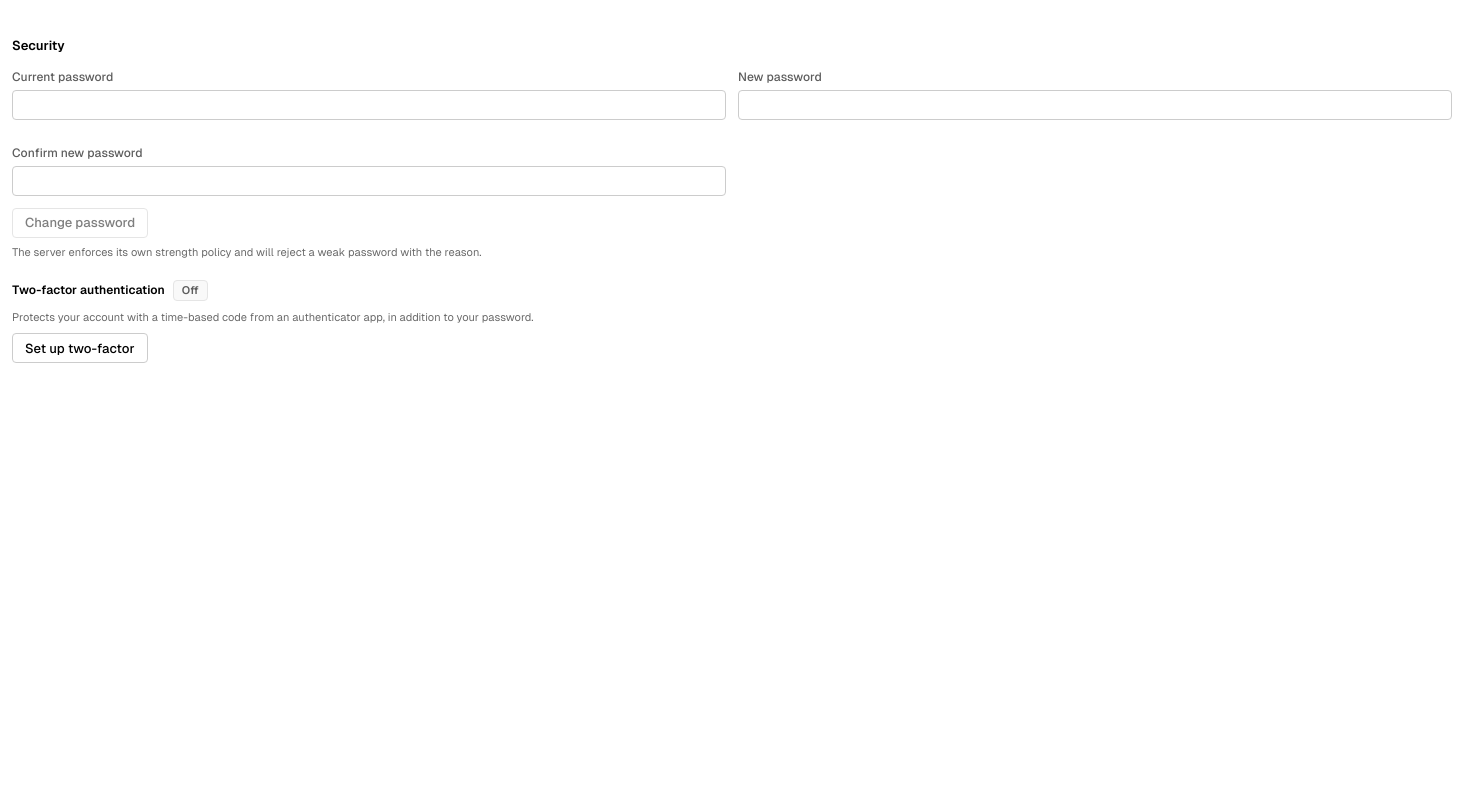
Scenario: AccountSecurity › states that backup codes cannot be retrieved again, and does not claim MFA is on before verification
The image size is (1464, 810).
Click the button "Set up two-factor". click: (80, 348)
box: x1=12 y1=333 x2=148 y2=363
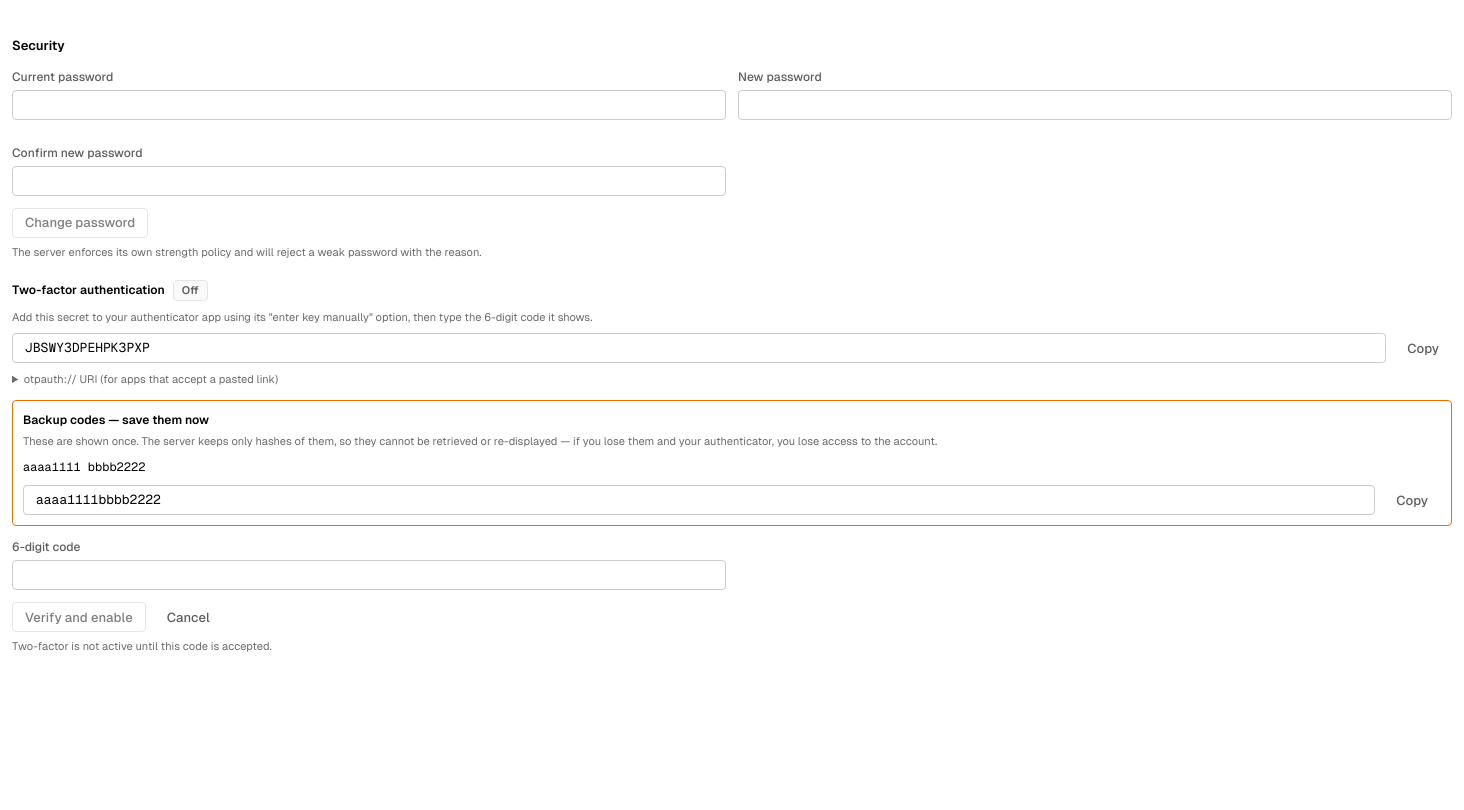
Expected: the text "cannot be retrieved or re-displayed" is shown, x1=23 y1=434 x2=937 y2=446
Expected: the text "aaaa1111 bbbb2222" is shown, x1=23 y1=460 x2=145 y2=474
Expected: the text "Two-factor is not active until this code is accepted." is shown, x1=12 y1=640 x2=272 y2=652
